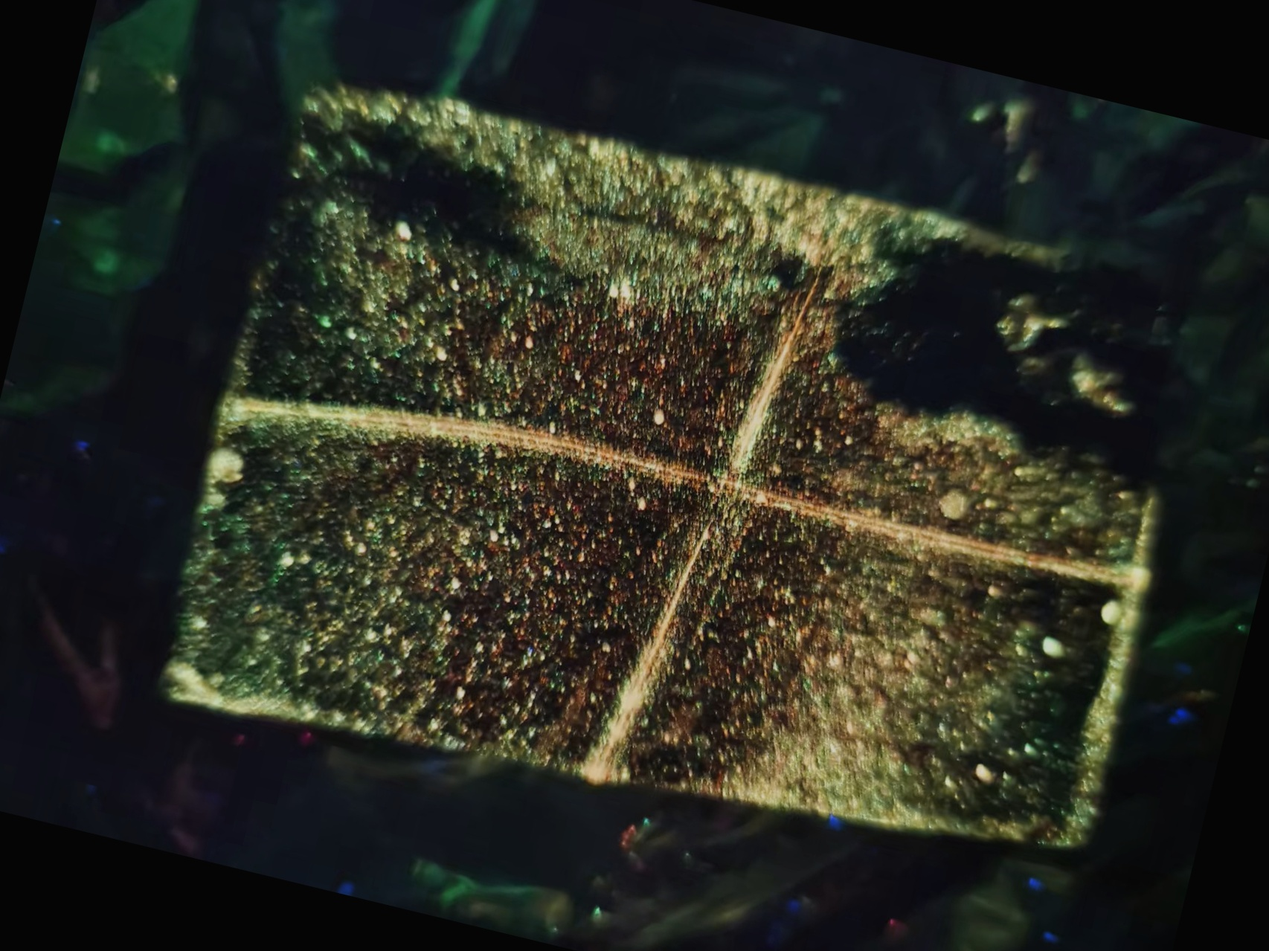Fissure: (196, 319, 1179, 668), (552, 232, 852, 816)
